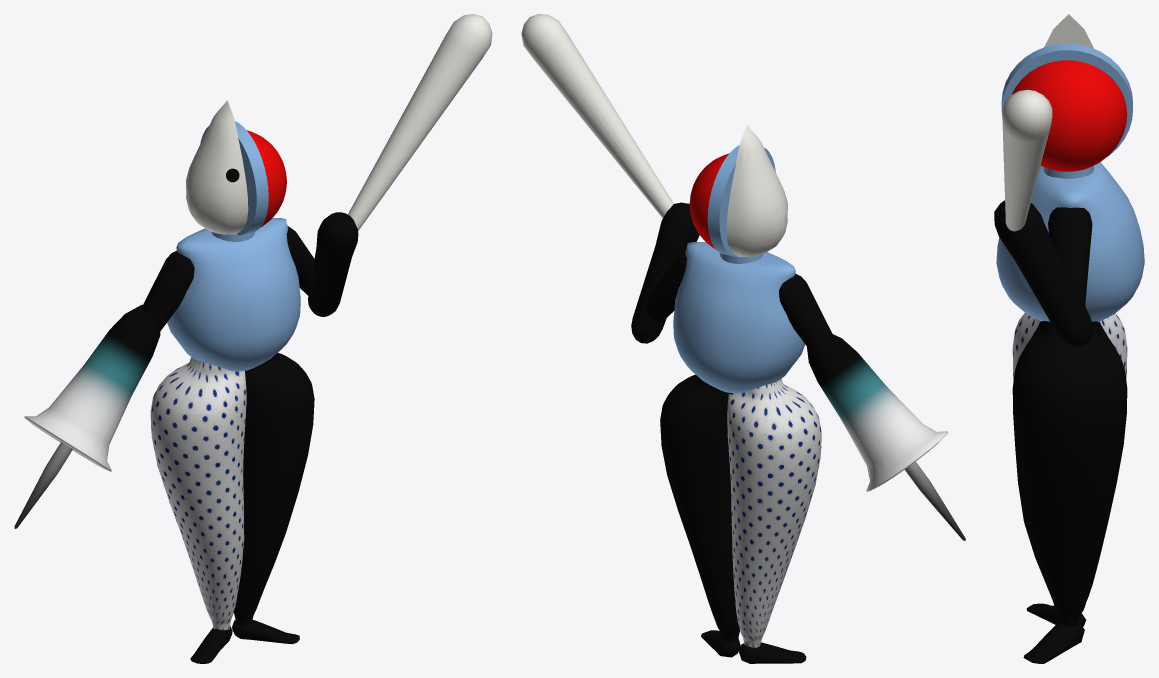
Rendered from Soldier.gltf.
3 renders of one model, left to right at view 1: azimuth 30°, elevation 25°; view 2: azimuth 150°, elevation 25°; view 3: azimuth 270°, elevation 25°, orthographic. The views are drawn at different scales.
Visible parts, largest first — view 1: Costume, Bat, Shoes; view 2: Costume, Bat, Shoes; view 3: Costume, Bat, Shoes.
Boxes of the visible parts, left/top/right/bottom form: Costume: left=14, top=100, right=358, bottom=630; Bat: left=348, top=14, right=492, bottom=231; Shoes: left=190, top=620, right=299, bottom=663; Costume: left=631, top=125, right=965, bottom=647; Bat: left=521, top=14, right=673, bottom=218; Shoes: left=701, top=630, right=806, bottom=663; Costume: left=994, top=14, right=1144, bottom=626; Bat: left=1002, top=89, right=1052, bottom=231; Shoes: left=1023, top=603, right=1085, bottom=663.
Size of the model in its own units: 4.47 by 5.41 by 1.11.
Materials: 1 (1 with a texture image).
